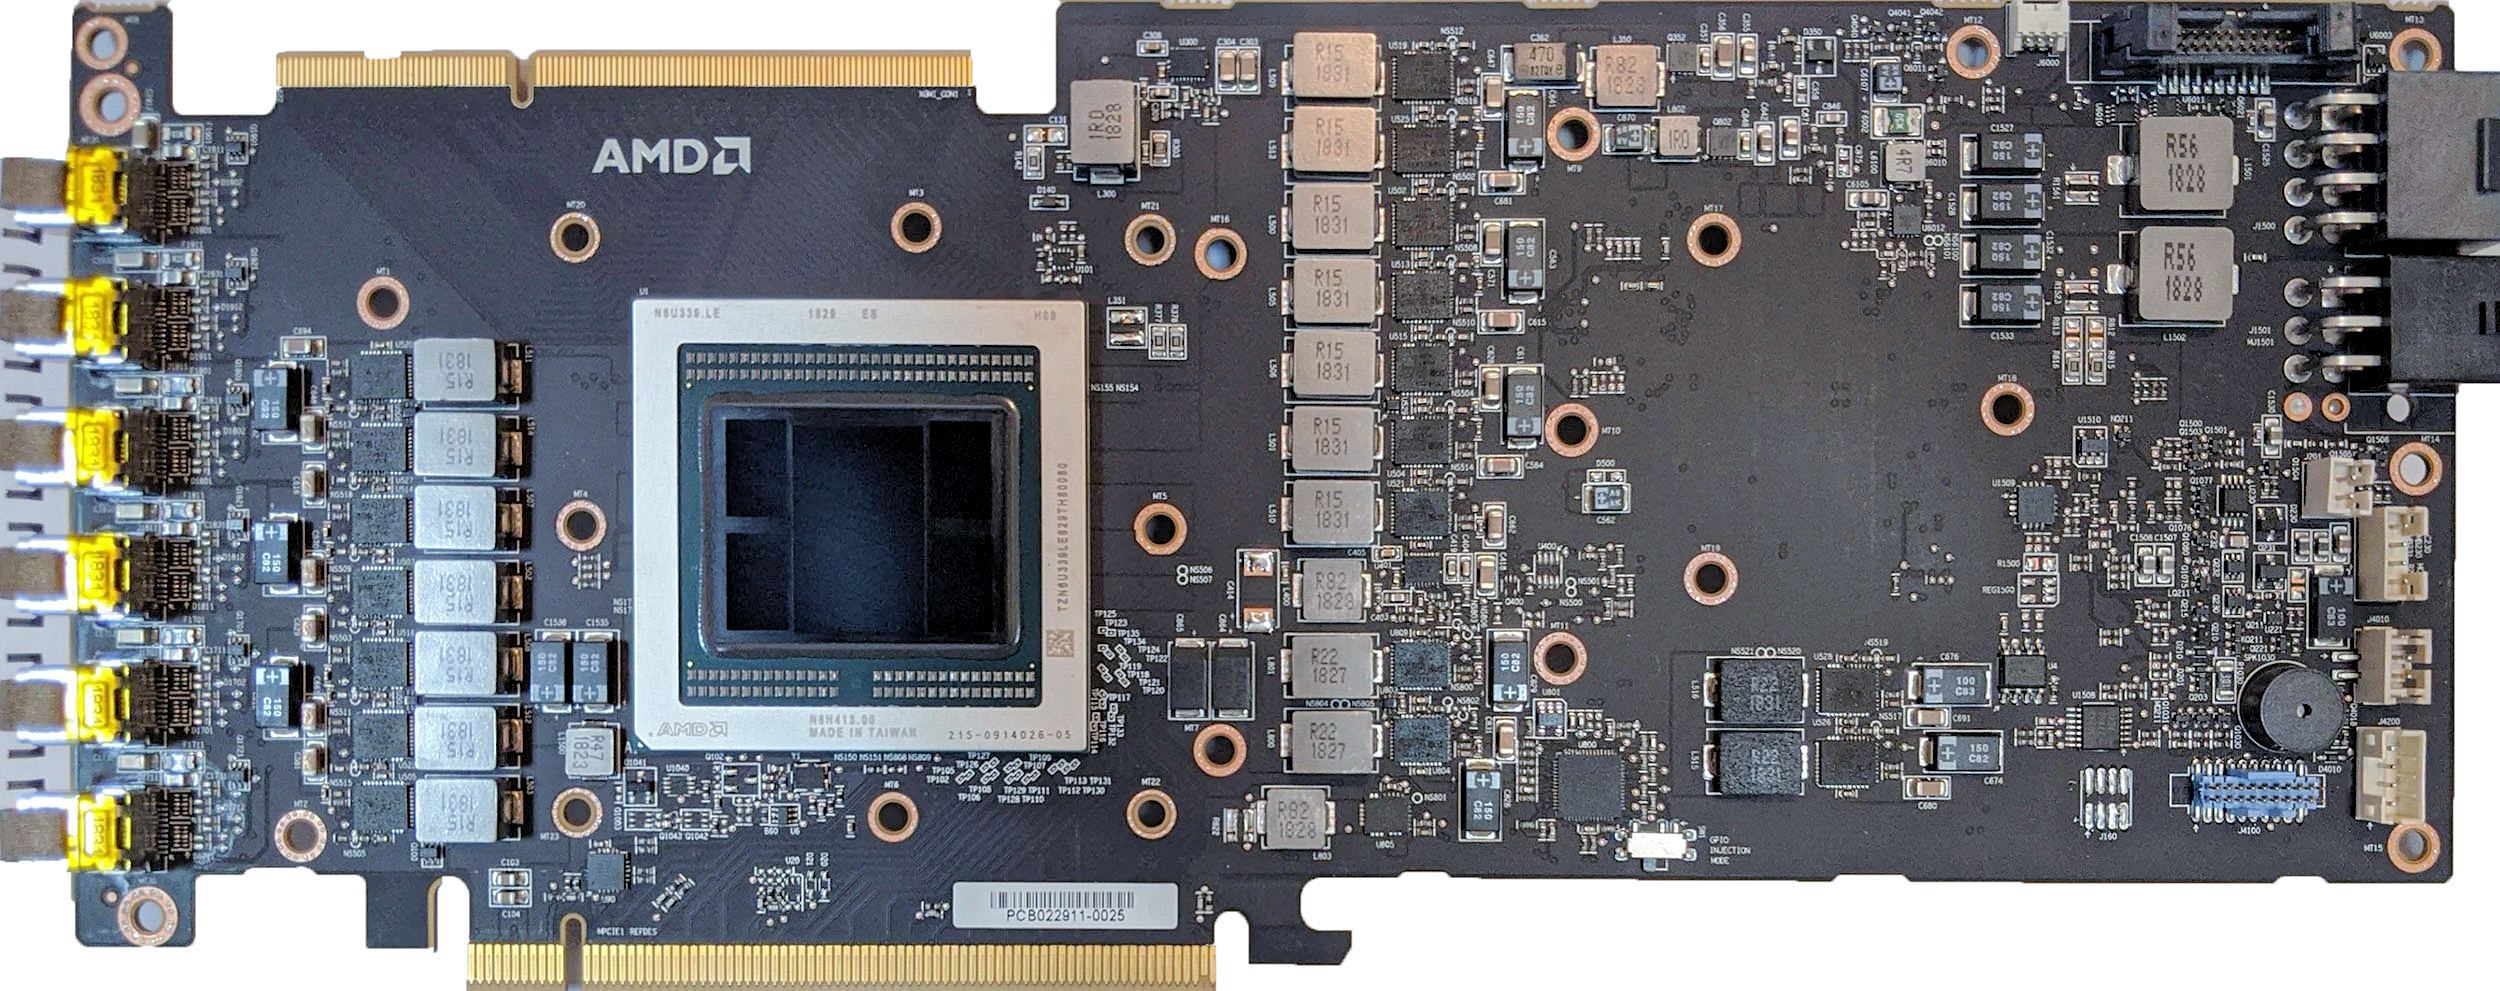Induktor: (2130, 223, 2234, 327), (2129, 115, 2234, 210), (1067, 80, 1138, 174), (415, 776, 509, 844), (1291, 104, 1379, 177), (1291, 27, 1381, 99), (413, 559, 510, 625), (411, 704, 509, 770), (413, 408, 505, 476), (1290, 257, 1382, 325), (1290, 331, 1381, 400), (1290, 406, 1379, 475), (415, 484, 507, 550), (415, 629, 507, 695), (413, 338, 505, 401), (1291, 183, 1376, 252), (1288, 480, 1374, 546), (1290, 707, 1376, 773), (1288, 633, 1374, 696), (1593, 43, 1660, 108), (1264, 787, 1328, 851), (1301, 559, 1365, 620), (564, 722, 619, 781), (1880, 140, 1923, 182), (1657, 115, 1696, 159)
